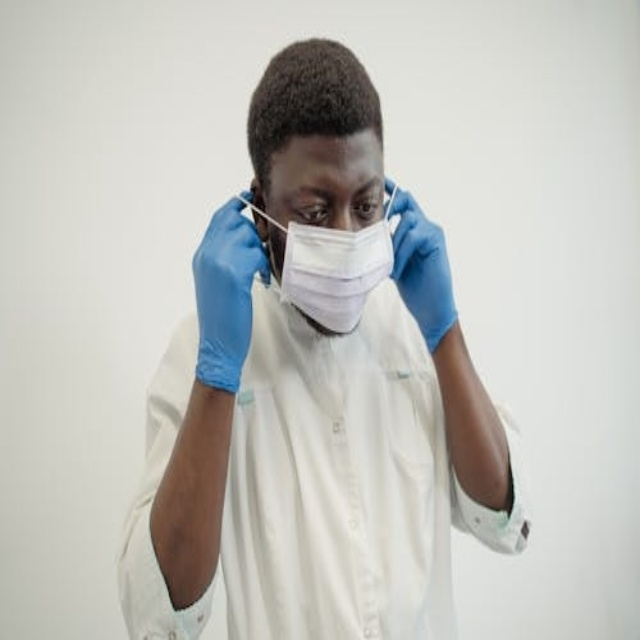Guantes: (192, 188, 271, 393), (385, 177, 459, 354)
Mascara: (274, 195, 394, 333)
Sin_gafas: (275, 175, 379, 223)
